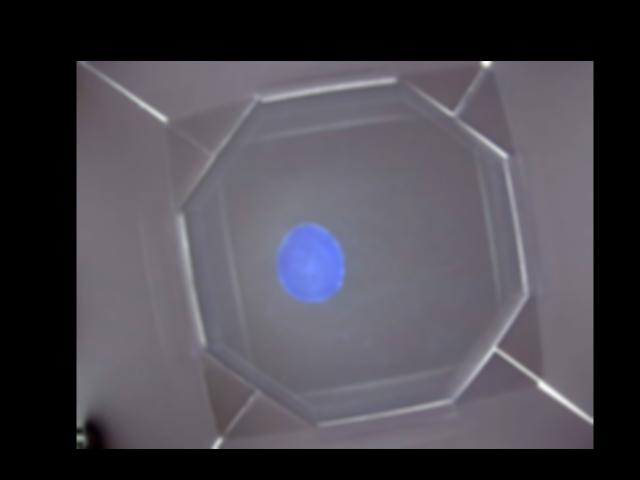Potato: (278, 221, 347, 303)
